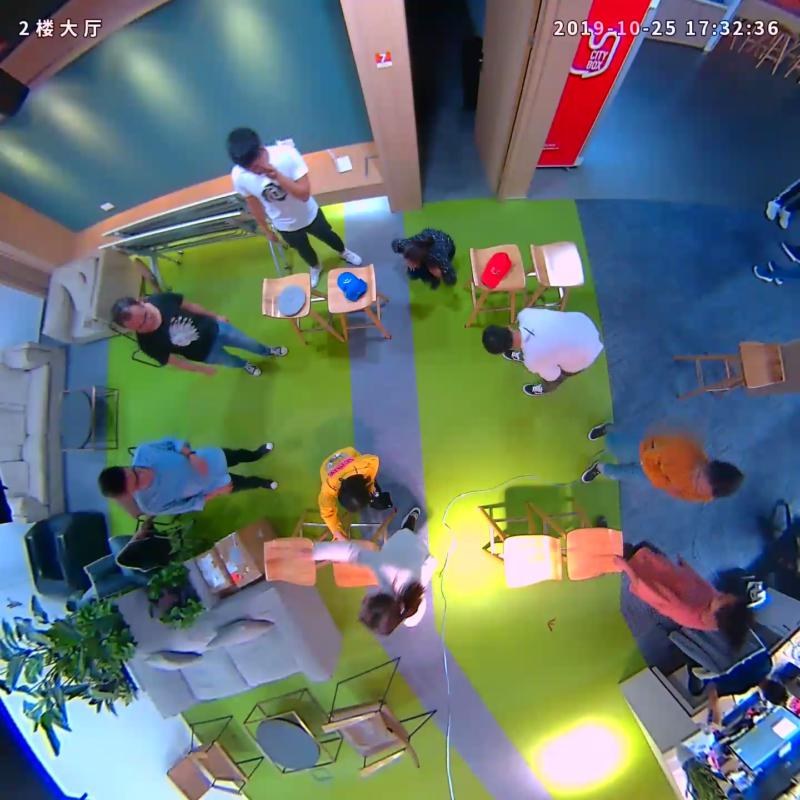head: (701, 584, 759, 645), (687, 455, 752, 504), (349, 588, 412, 637), (102, 293, 164, 340), (222, 125, 270, 178), (92, 462, 152, 504), (476, 319, 526, 360), (332, 474, 373, 517), (397, 237, 432, 274)
